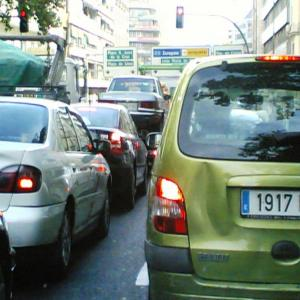Vehicle-registration-plate: (241, 183, 295, 232)
